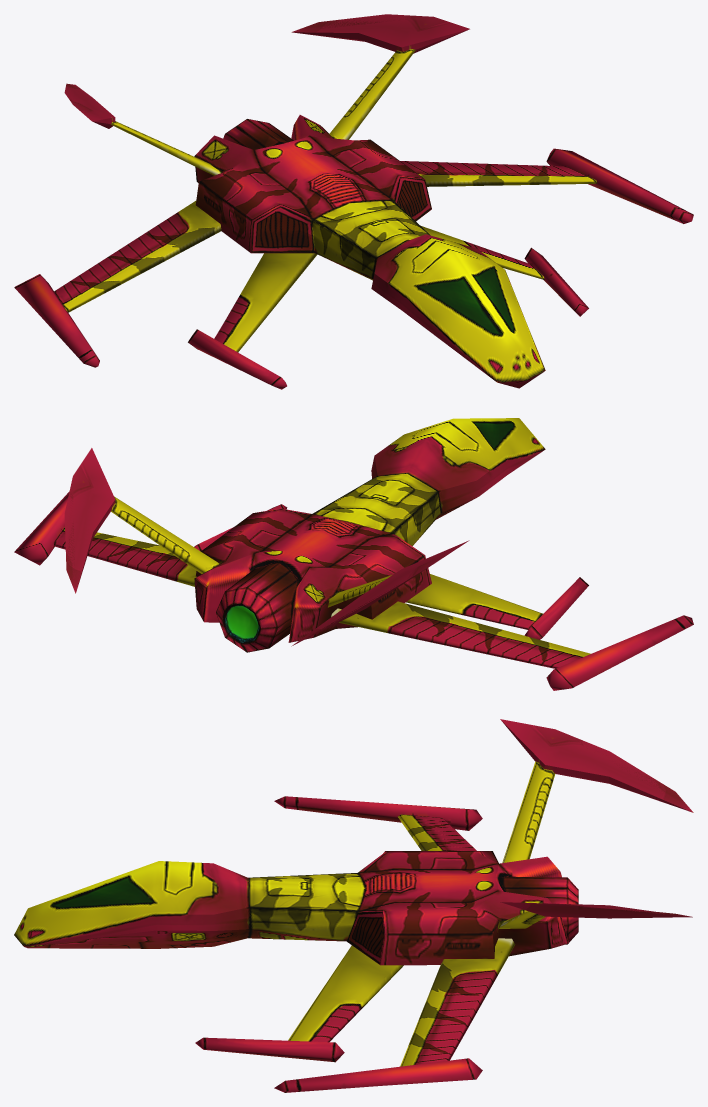
Rendered from Ship_Enemy_02.FBX.
The picture shows the model from 3 angles, top to bottom: view 1: azimuth 30°, elevation 25°; view 2: azimuth 150°, elevation 25°; view 3: azimuth 270°, elevation 25°; orthographic projection.
Visible parts, largest first — view 1: Ship_Enemy_02; view 2: Ship_Enemy_02; view 3: Ship_Enemy_02.
Part boxes in pixels (box(x1,y1,x2,y2)): Ship_Enemy_02: box(14, 14, 693, 389); Ship_Enemy_02: box(14, 418, 693, 690); Ship_Enemy_02: box(14, 719, 693, 1092).
Bounding box in the file's own units: 82.16 × 79.98 × 22.18.
